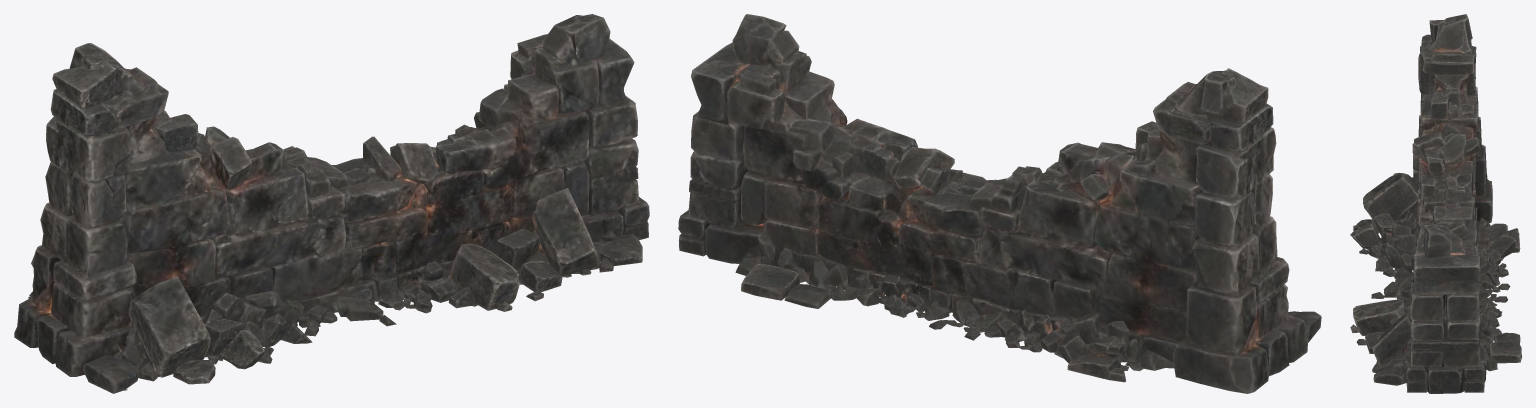
File: PR_crypt_wall.glb
3 views of the same model, side by side, from view 1: azimuth 30°, elevation 25°; view 2: azimuth 150°, elevation 25°; view 3: azimuth 270°, elevation 25° (orthographic). The views are drawn at different scales.
Visible parts, largest first — view 1: PR_crypt_wall_LOD0; view 2: PR_crypt_wall_LOD0; view 3: PR_crypt_wall_LOD0.
Part boxes in pixels (x1=…): PR_crypt_wall_LOD0: x1=14, y1=14, x2=649, y2=393; PR_crypt_wall_LOD0: x1=678, y1=14, x2=1321, y2=393; PR_crypt_wall_LOD0: x1=1350, y1=14, x2=1521, y2=393.
Size of what is drawn, in the model's own units: 4.63 by 2.2 by 1.71.
Materials: 1 (1 with a texture image).
